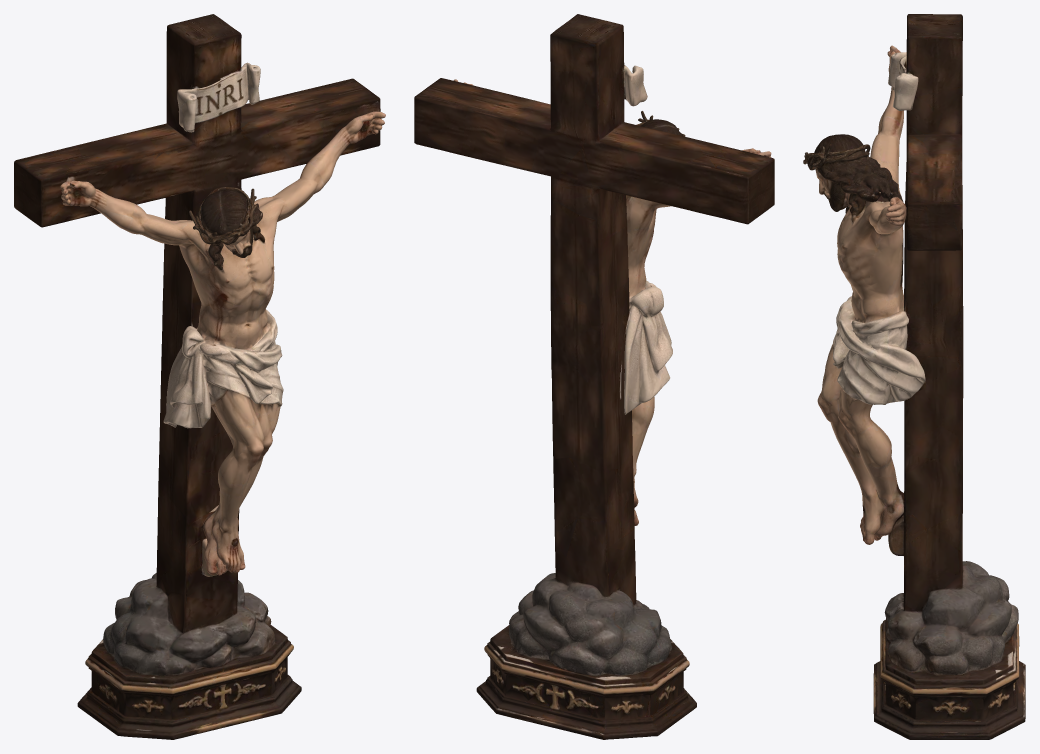
The model's file is crucifix.glb.
3 views of the same model, side by side, from view 1: azimuth 30°, elevation 25°; view 2: azimuth 150°, elevation 25°; view 3: azimuth 270°, elevation 25° (orthographic).
Bounding box in the file's own units: 0.00317 × 0.006 × 0.00179.
Materials: 1 (1 with a texture image).
